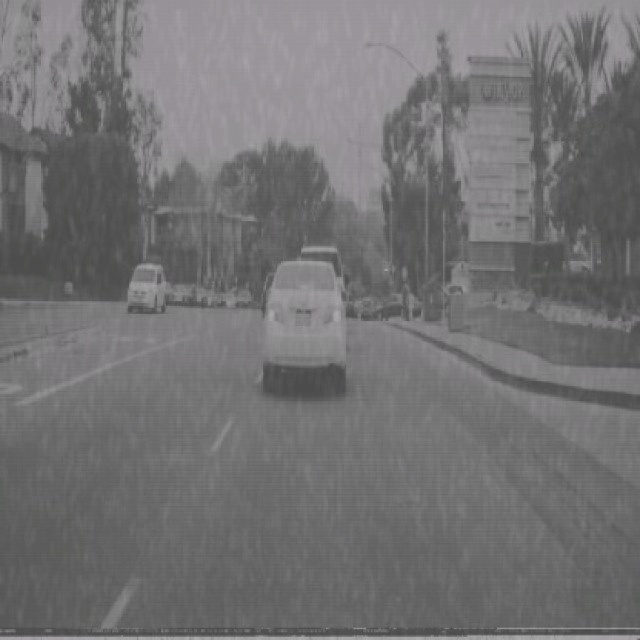signalAhead: (385, 258, 395, 278)
